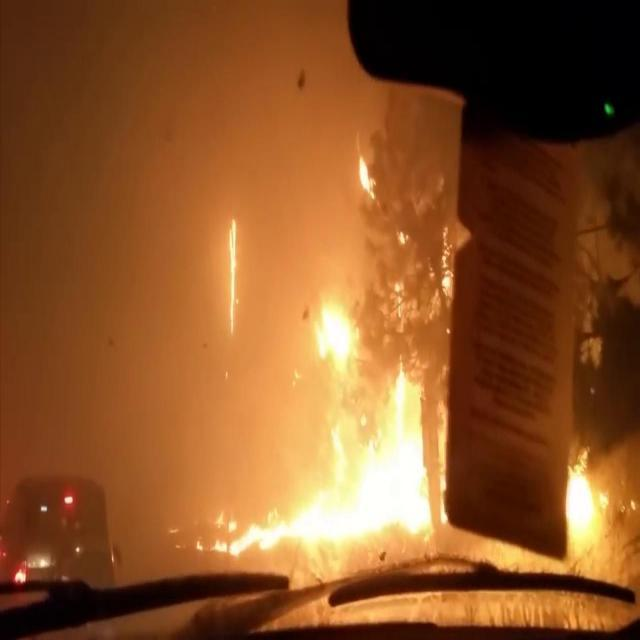Fire: (194, 300, 450, 554), (436, 222, 454, 294), (358, 156, 378, 200)
